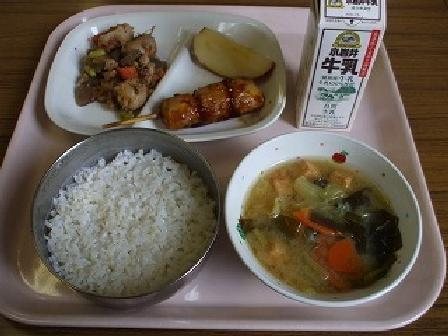Apple: (187, 16, 282, 90)
Milk: (288, 0, 391, 140)
Rice: (37, 146, 215, 296)
Soups: (237, 142, 412, 300)
cooked food meat with vegetables: (63, 20, 162, 114)
snacks: (116, 74, 269, 141)
